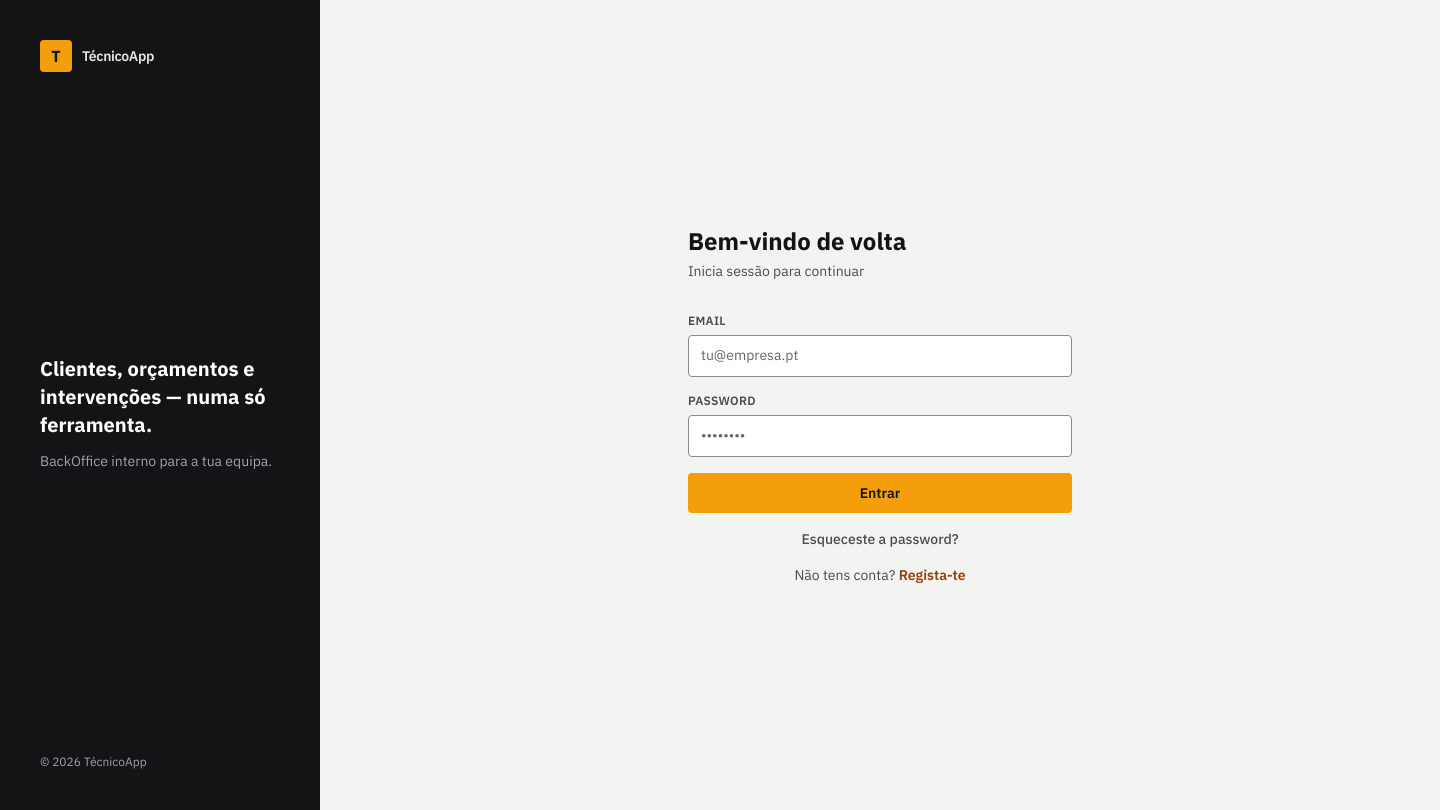
LoginPage › shows an error message and does not navigate on invalid credentials
Type "ana@x.pt" into the field with placeholder "tu@empresa.pt" at (880, 356), box [688,335,1072,377]
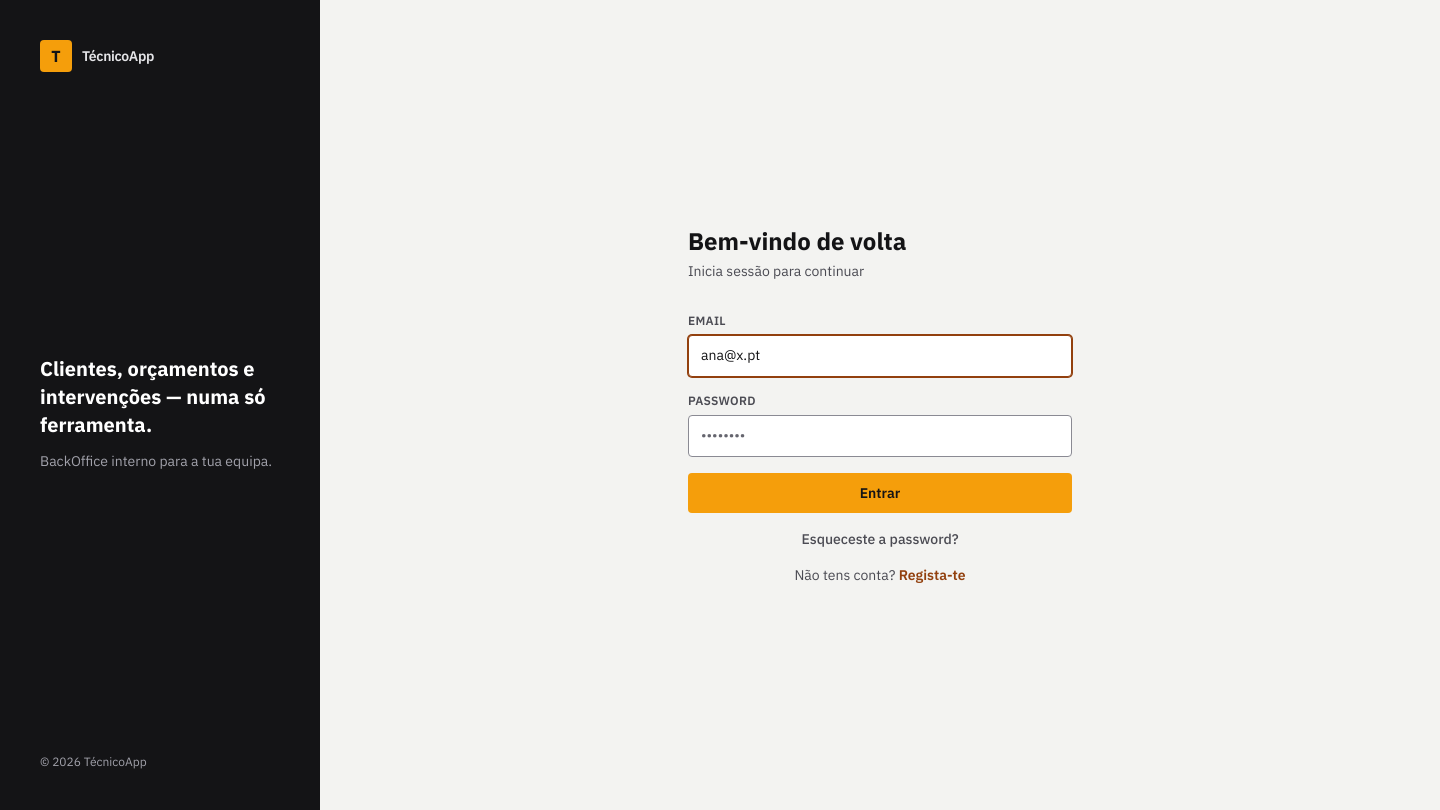
Type "wrong-password" into the password field with placeholder "••••••••" at (880, 436), box [688,415,1072,457]
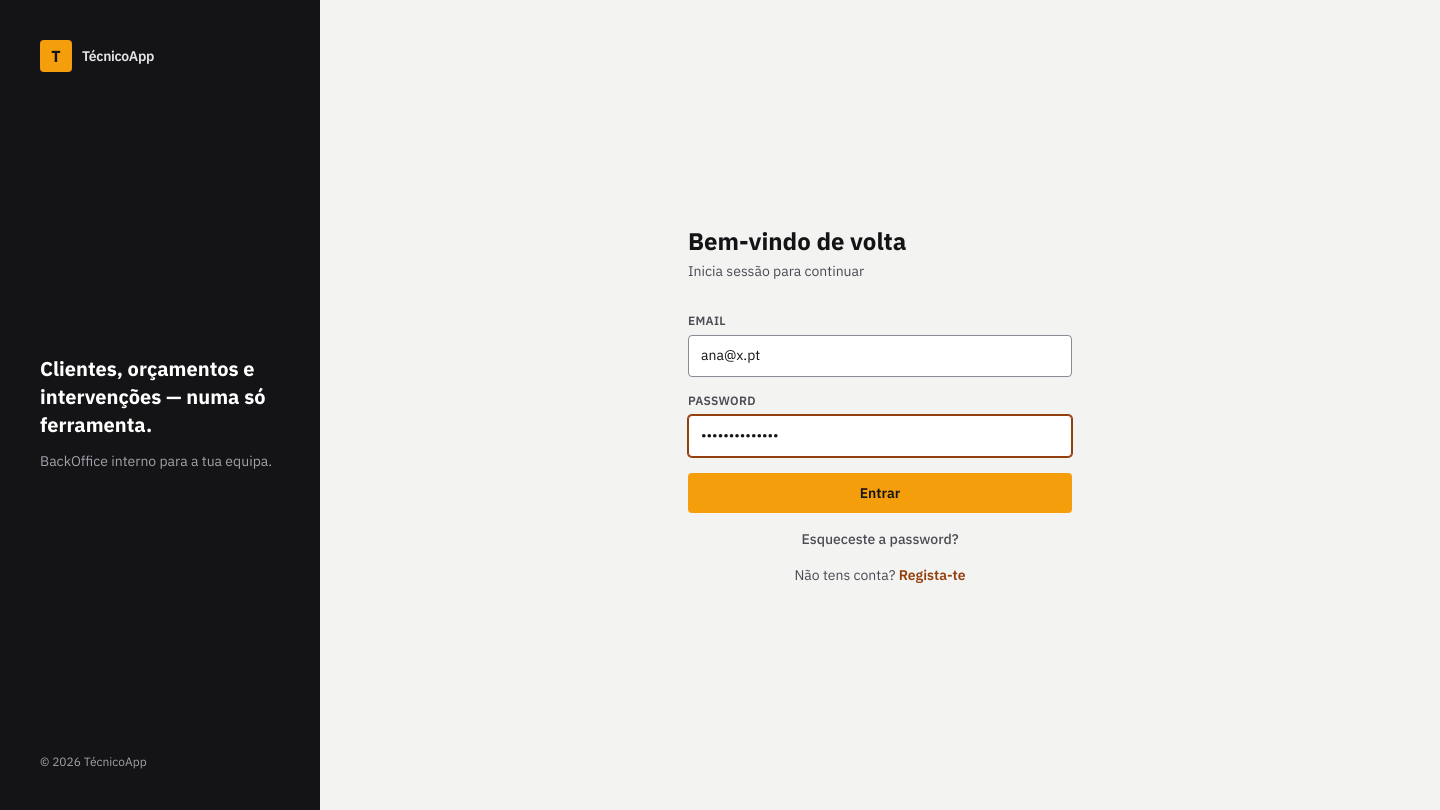
Click the button "Entrar" at (880, 493), box [688,473,1072,513]
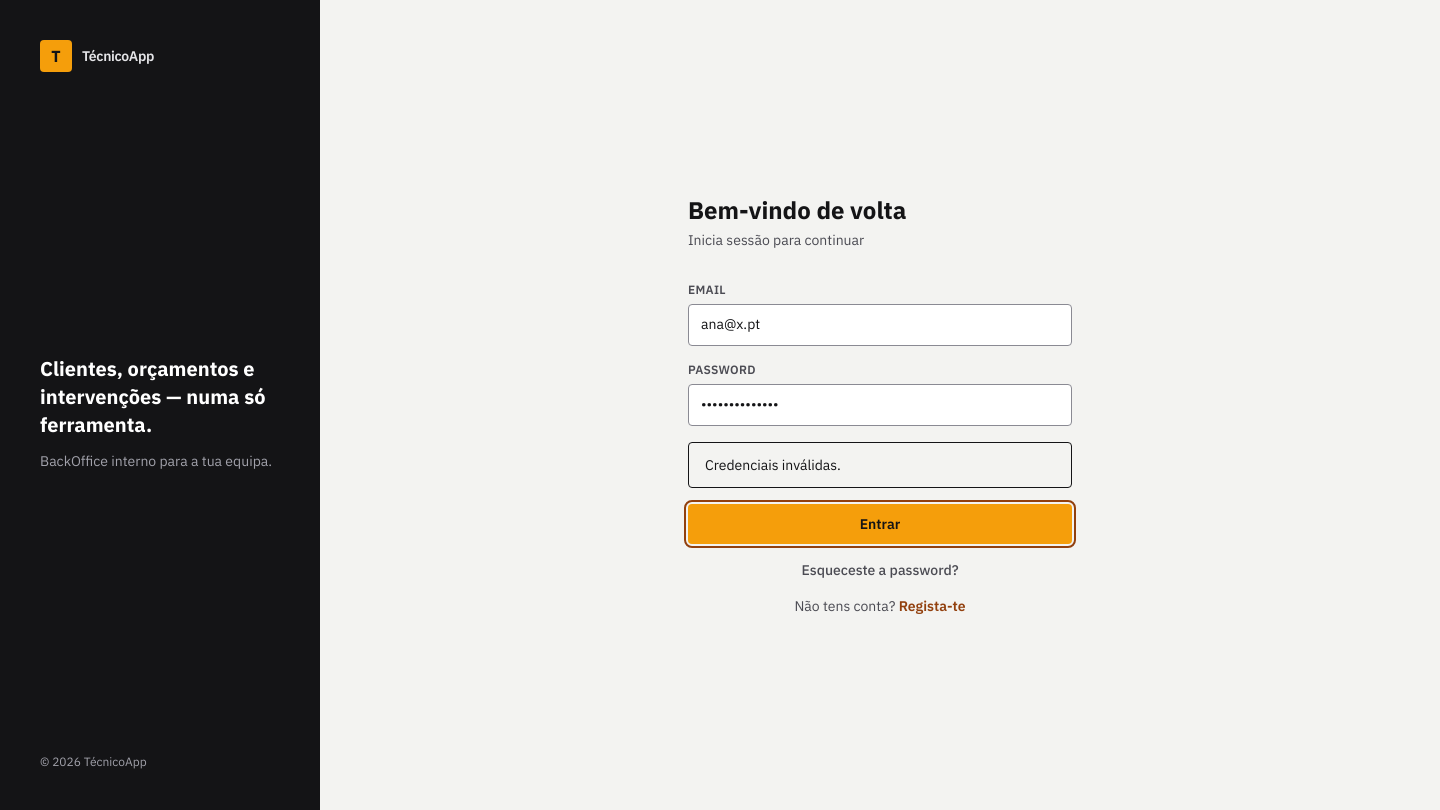
Check: the text "Credenciais inválidas." is shown, box [688,442,1072,488]
